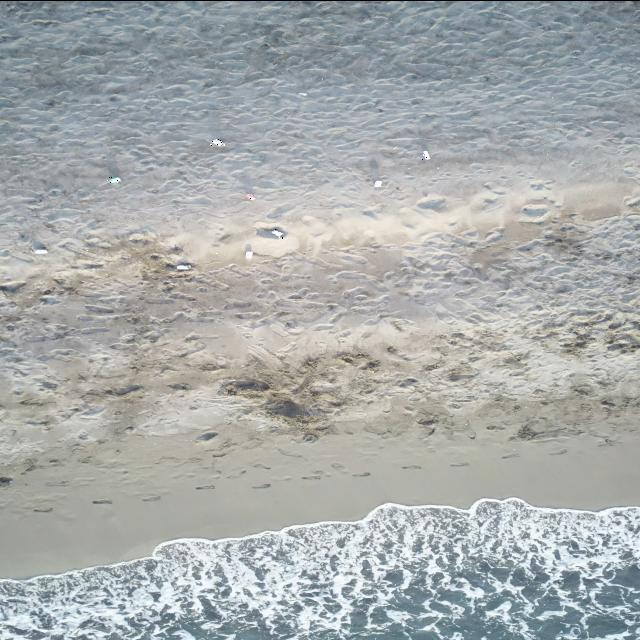Garbage: (416, 193, 446, 209), (256, 227, 286, 238), (0, 280, 24, 292), (32, 240, 47, 252), (196, 431, 216, 440), (176, 261, 192, 270), (244, 244, 252, 260), (209, 138, 224, 145), (271, 228, 283, 236), (32, 247, 47, 253), (108, 176, 120, 183), (244, 192, 255, 199), (422, 150, 429, 159), (373, 180, 380, 187), (299, 91, 306, 96)
